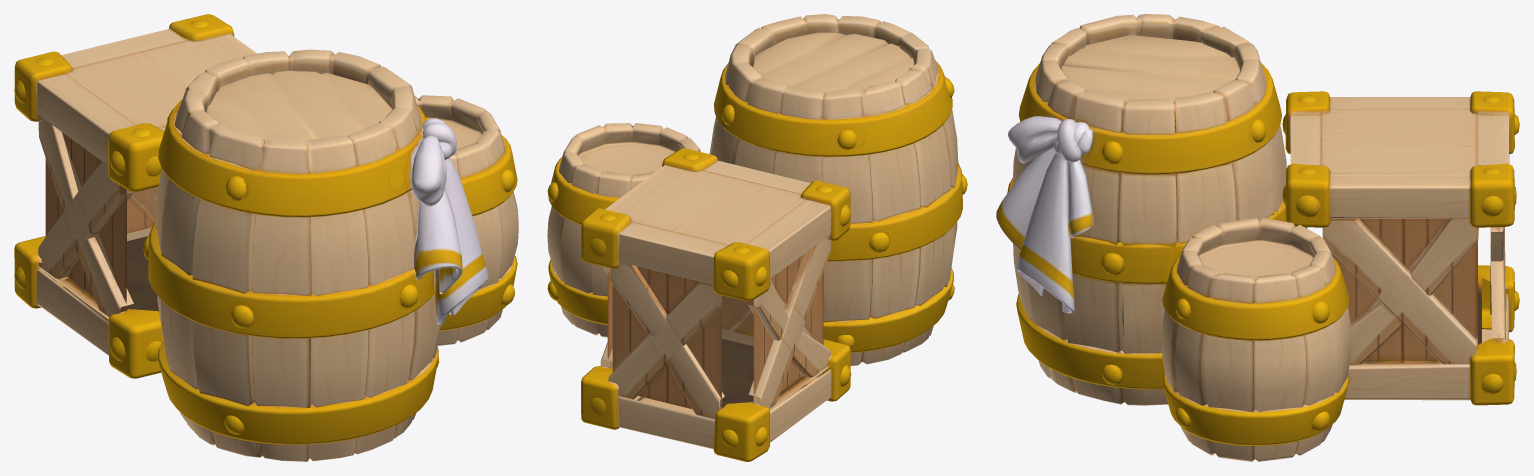
The model's file is NEW_ArmoryBarrels_SM_texMV4k_pbr_src.fbx.
The picture shows the model from 3 angles, left to right: view 1: azimuth 30°, elevation 25°; view 2: azimuth 150°, elevation 25°; view 3: azimuth 270°, elevation 25°; orthographic projection. The views are drawn at different scales.
Parts seen in each view (by area): view 1: tripo_4e4b0821_47c1_4a0a_b118_348c4b4bcd55; view 2: tripo_4e4b0821_47c1_4a0a_b118_348c4b4bcd55; view 3: tripo_4e4b0821_47c1_4a0a_b118_348c4b4bcd55.
Boxes of the visible parts, x1,y1,x2,y2 form: tripo_4e4b0821_47c1_4a0a_b118_348c4b4bcd55: (14,14,518,461); tripo_4e4b0821_47c1_4a0a_b118_348c4b4bcd55: (547,14,967,461); tripo_4e4b0821_47c1_4a0a_b118_348c4b4bcd55: (996,14,1519,461).
Size of the model in its own units: 0.8228 by 0.6372 by 0.9995.
1 material, 1 textured.
